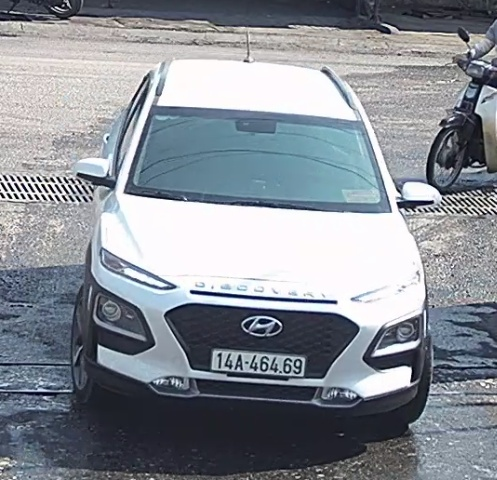vehicle plate: (210, 345, 316, 382)
